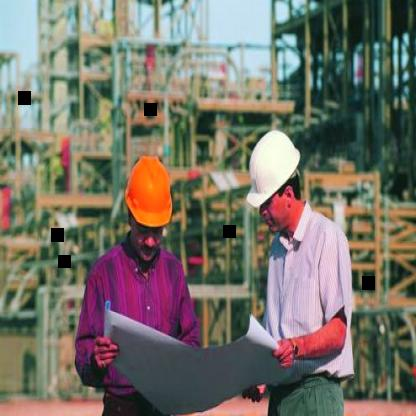helmet: (242, 121, 308, 233), (119, 152, 179, 258)
